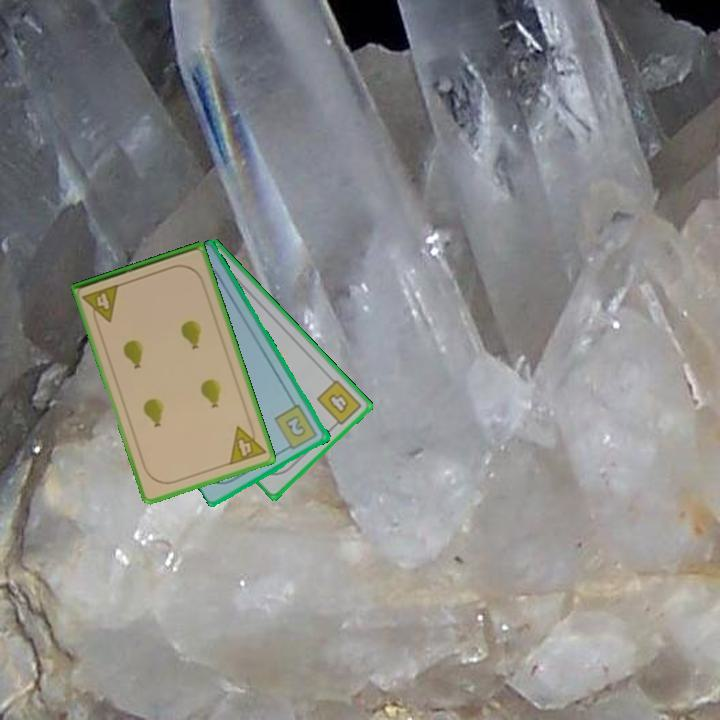2b: (271, 401, 320, 453)
4b: (313, 376, 365, 432)
4p: (225, 419, 269, 468), (79, 281, 122, 328)
